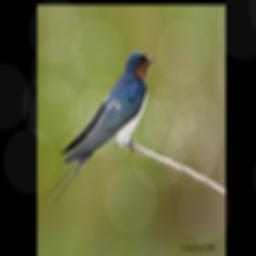Swallow: (47, 51, 155, 205)
